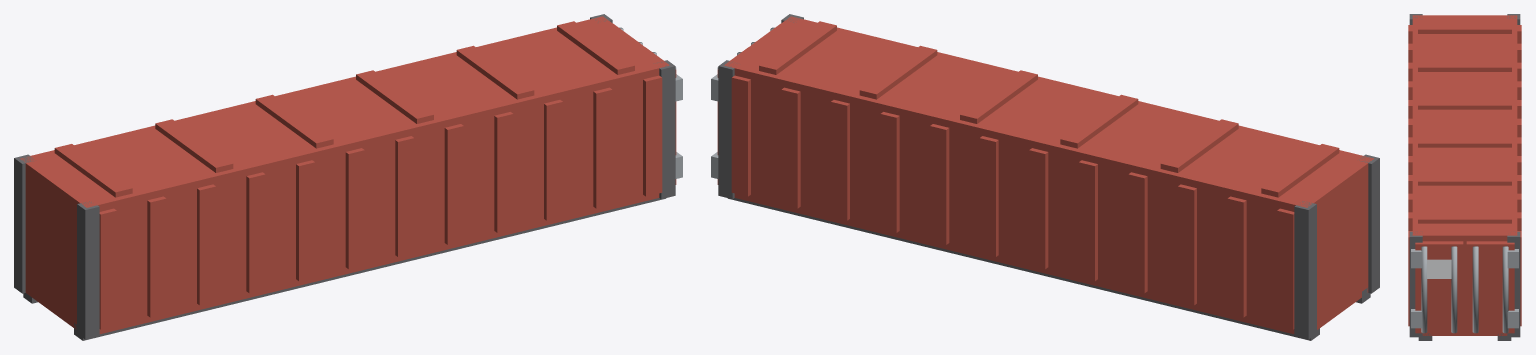
The model's file is container_red.glb.
3 renders of one model, left to right at view 1: azimuth 30°, elevation 25°; view 2: azimuth 150°, elevation 25°; view 3: azimuth 270°, elevation 25°, orthographic. The views are drawn at different scales.
Parts seen in each view (by area): view 1: Merged_CityAccentRed, Merged_RoofDark; view 2: Merged_CityAccentRed, Merged_RoofDark; view 3: Merged_CityAccentRed, Merged_PropsMetal, Merged_RoofDark, cont_data_plate.
Part boxes in pixels (x1=…): Merged_CityAccentRed: x1=20, y1=16, x2=676, y2=334; Merged_RoofDark: x1=14, y1=14, x2=675, y2=340; Merged_CityAccentRed: x1=717, y1=16, x2=1373, y2=334; Merged_RoofDark: x1=718, y1=14, x2=1379, y2=340; Merged_CityAccentRed: x1=1408, y1=15, x2=1521, y2=335; Merged_PropsMetal: x1=1411, y1=246, x2=1518, y2=333; Merged_RoofDark: x1=1409, y1=14, x2=1520, y2=340; cont_data_plate: x1=1427, y1=259, x2=1451, y2=278.
Size of the model in its own units: 12.53 by 2.82 by 2.65.
